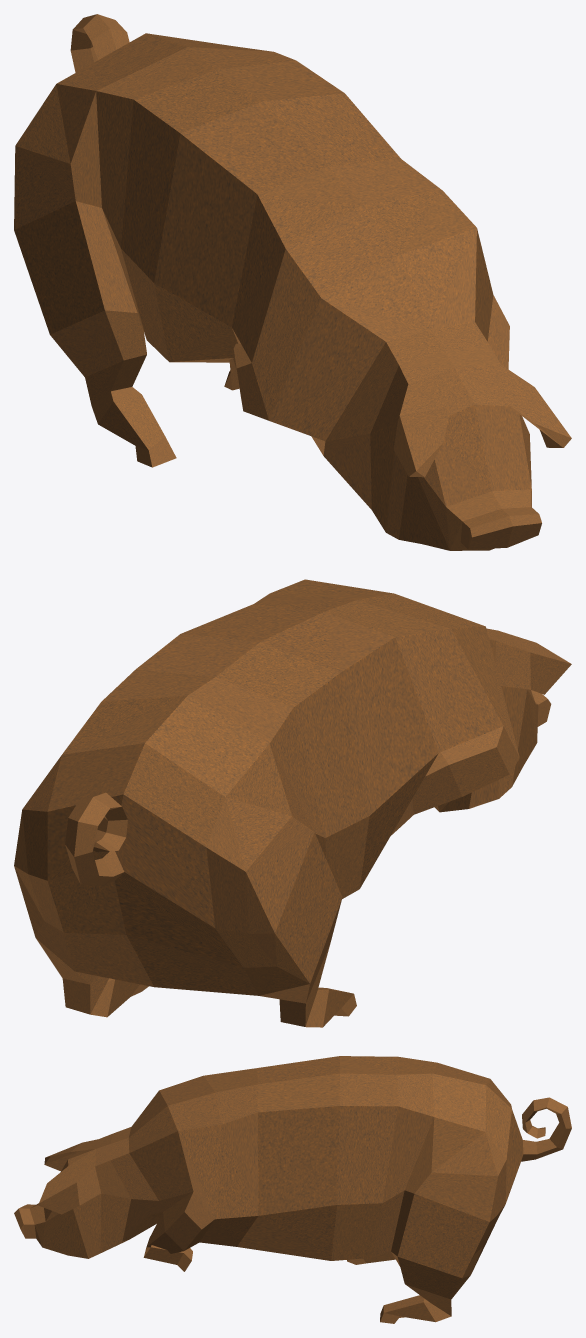
Rendered from Pig_000007.obj.
3 views of the same model, one above another, from view 1: azimuth 30°, elevation 25°; view 2: azimuth 150°, elevation 25°; view 3: azimuth 270°, elevation 25° (orthographic). The views are drawn at different scales.
Visible parts, largest first — view 1: Pig_Cylinder; view 2: Pig_Cylinder; view 3: Pig_Cylinder.
Boxes of the visible parts, left/top/right/bottom form: Pig_Cylinder: left=14, top=14, right=571, bottom=550; Pig_Cylinder: left=14, top=579, right=571, bottom=1027; Pig_Cylinder: left=14, top=1056, right=571, bottom=1323.
Bounding box in the file's own units: 3.38 × 4.18 × 9.69.
Materials: 1 (1 with a texture image).
